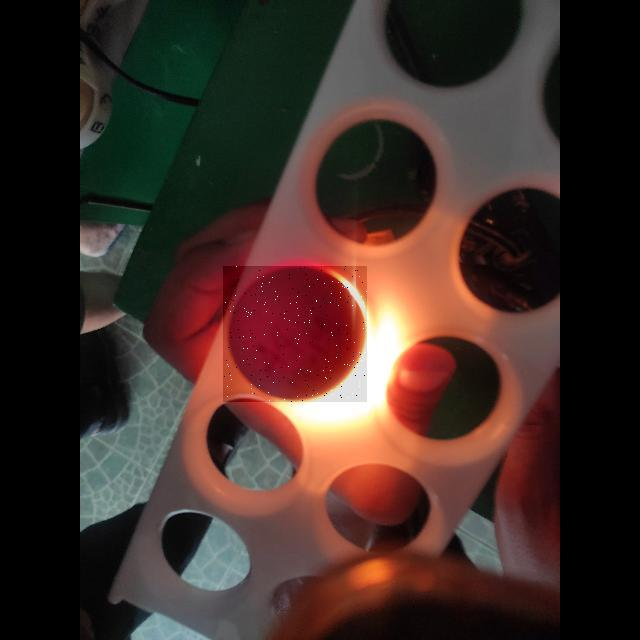Fertile: (223, 266, 367, 402)
